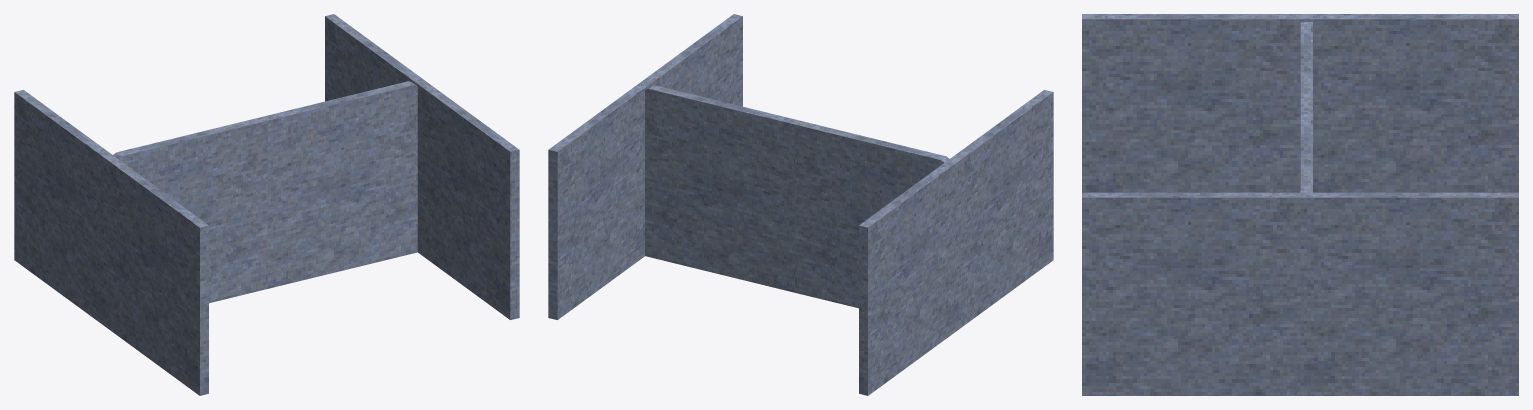
The model's file is divider_full_h_blue.glb.
3 renders of one model, left to right at view 1: azimuth 30°, elevation 25°; view 2: azimuth 150°, elevation 25°; view 3: azimuth 270°, elevation 25°, orthographic. The views are drawn at different scales.
Parts seen in each view (by area): view 1: divider_full_h_blue; view 2: divider_full_h_blue; view 3: divider_full_h_blue.
Boxes of the visible parts, x1=… form: divider_full_h_blue: x1=14, y1=14, x2=519, y2=395; divider_full_h_blue: x1=548, y1=14, x2=1053, y2=395; divider_full_h_blue: x1=1082, y1=14, x2=1518, y2=395.
Bounding box in the file's own units: 2.99 × 1.5 × 3.
1 material, 1 textured.
